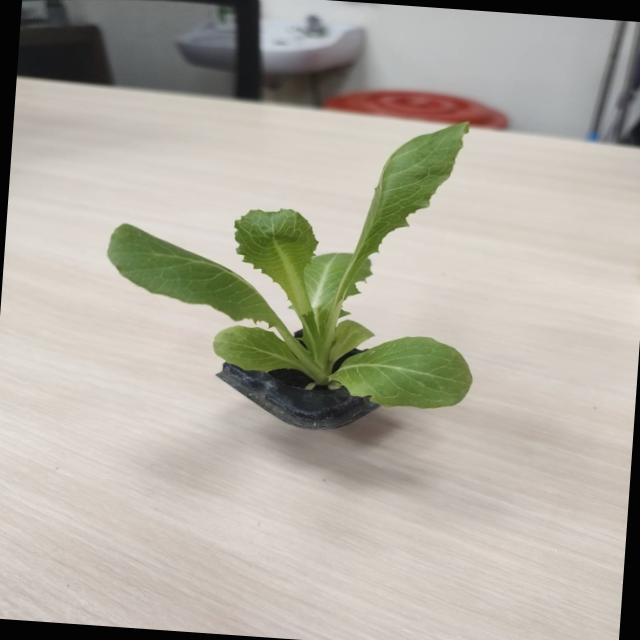Lettuce-Not-Ready-to-Harvest: (108, 123, 470, 408)
